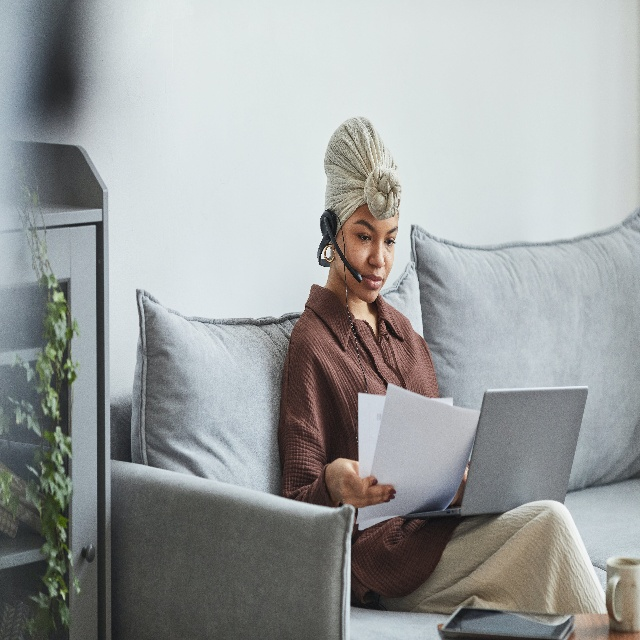Sin_guantes: (325, 458, 397, 508)
